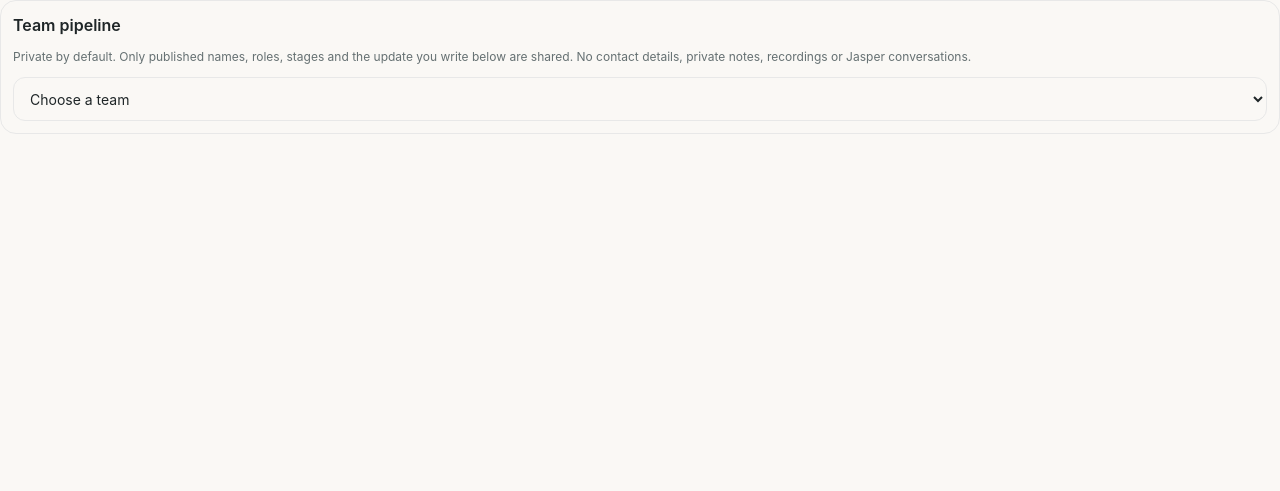
Test: explicit team card review › publishes only the preview and requires a new review when its revision changes
Later steps or results of the test are not shown.
Select "Our team" in the dropdown named "Team pipeline": (640, 99) [13,77,1267,121]
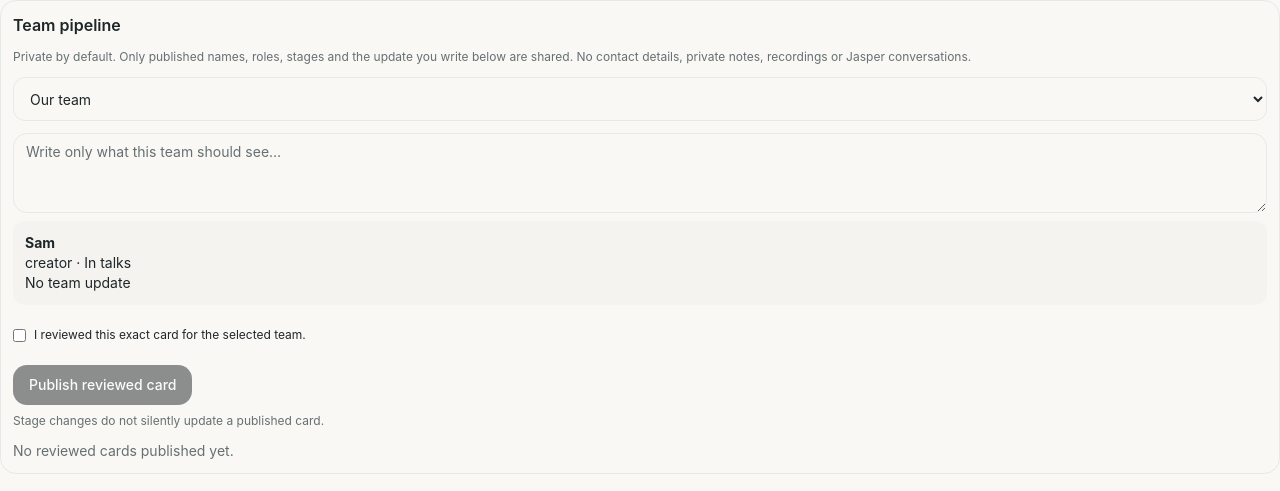
Check: the text box named "Team update" is shown, box [13,133,1267,213]
Check: the button "Publish reviewed card" is disabled, box [13,365,192,405]
